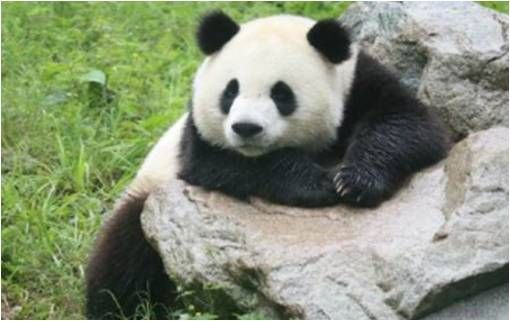panda: (60, 2, 467, 320)
